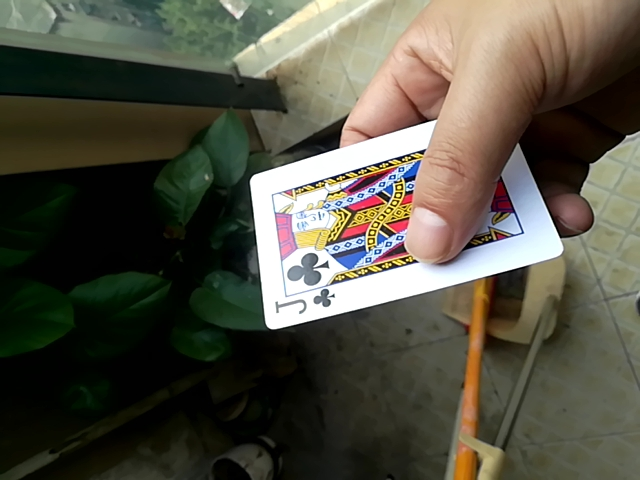mh j: (248, 122, 552, 323)
